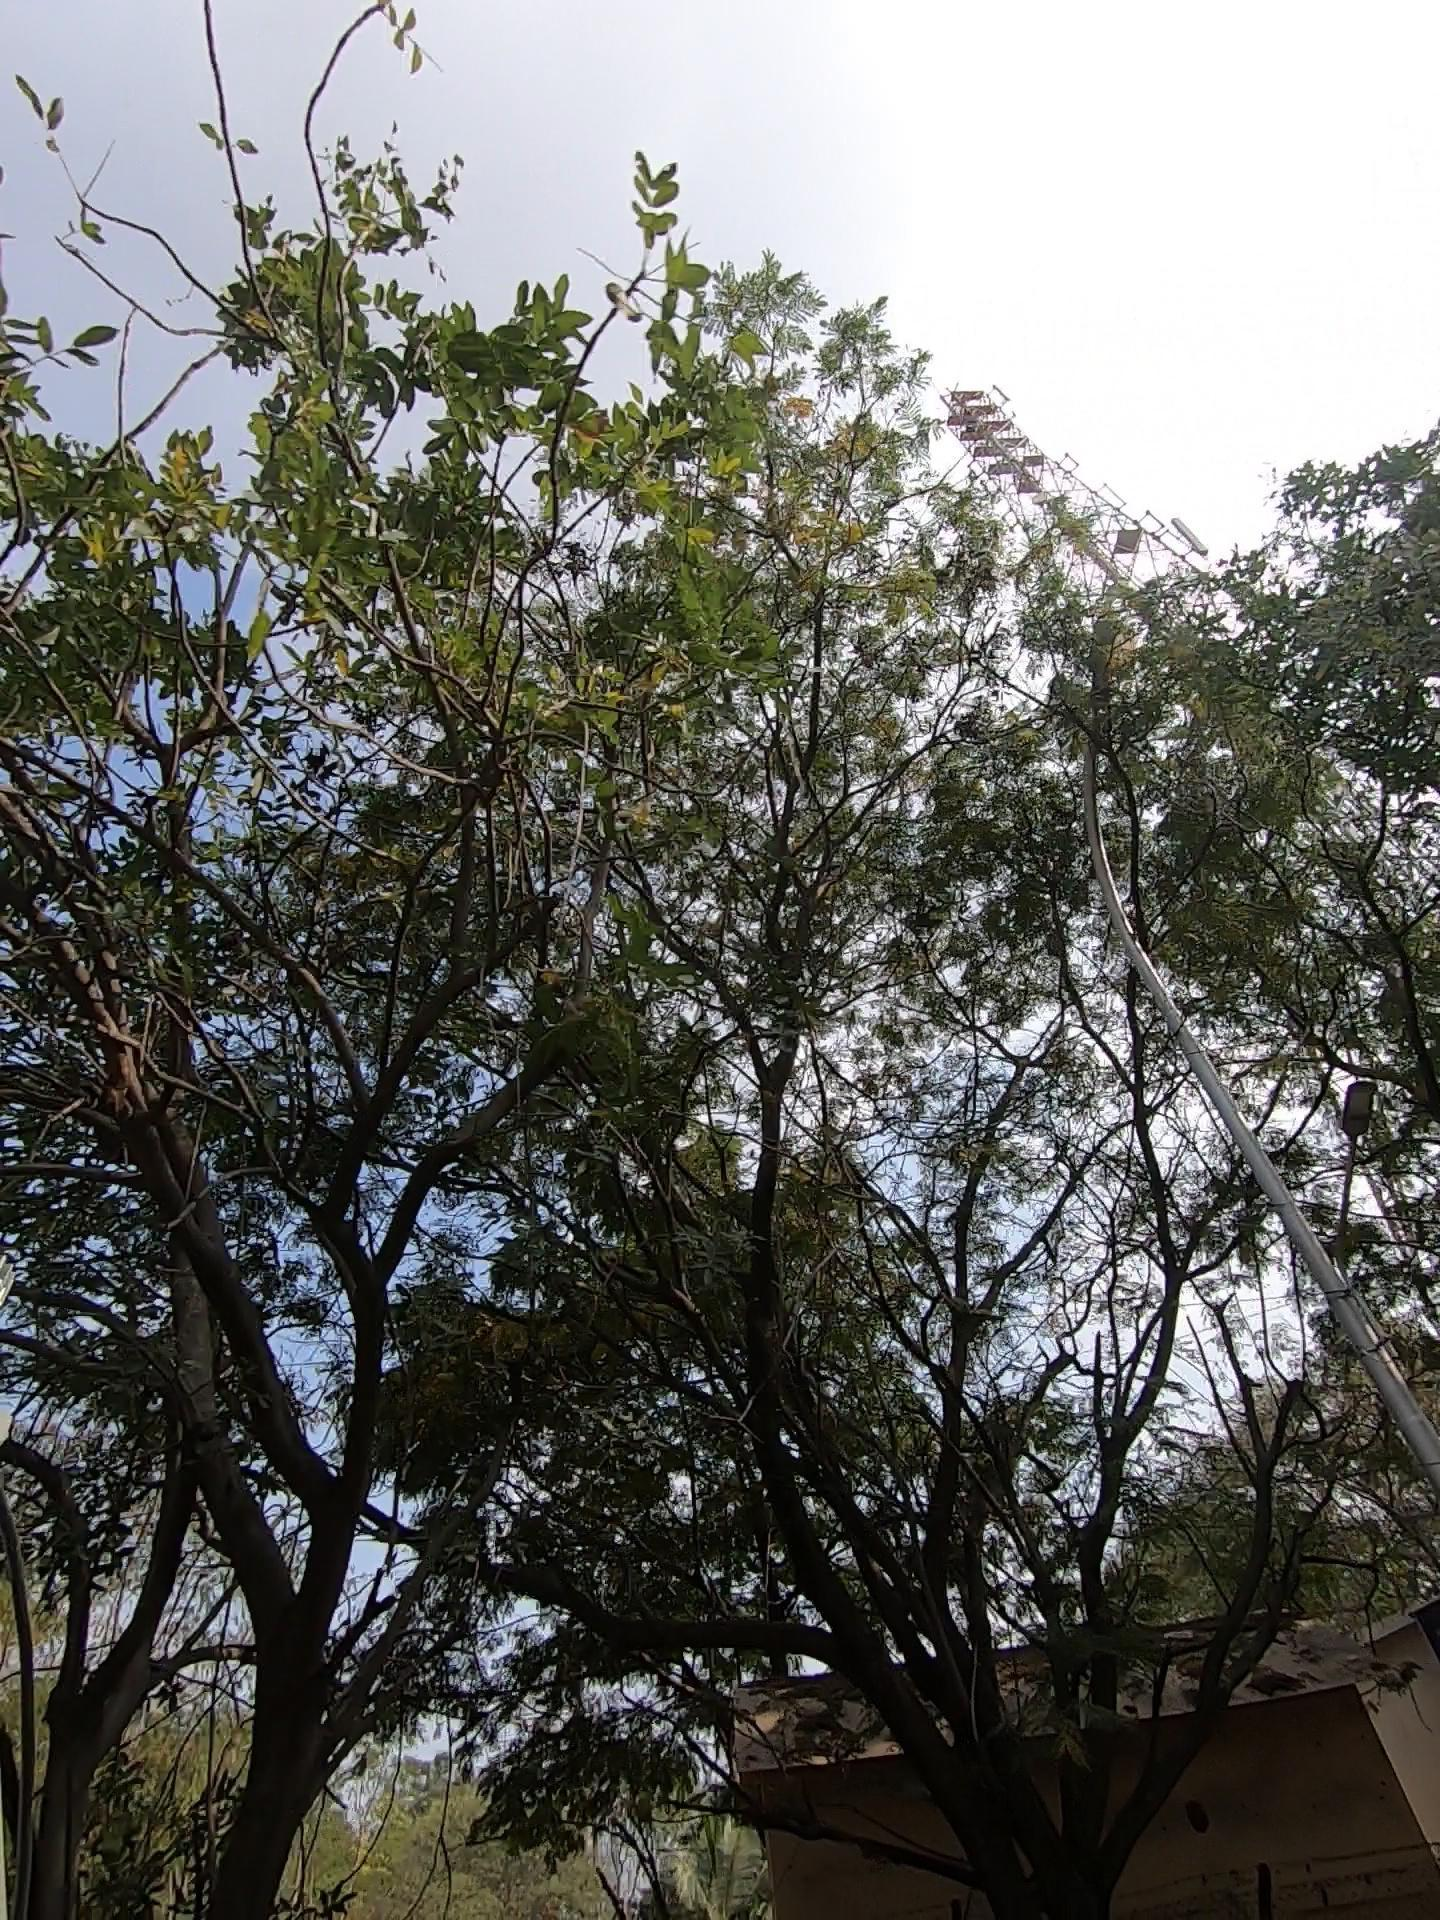off: (1012, 558, 1181, 859)
